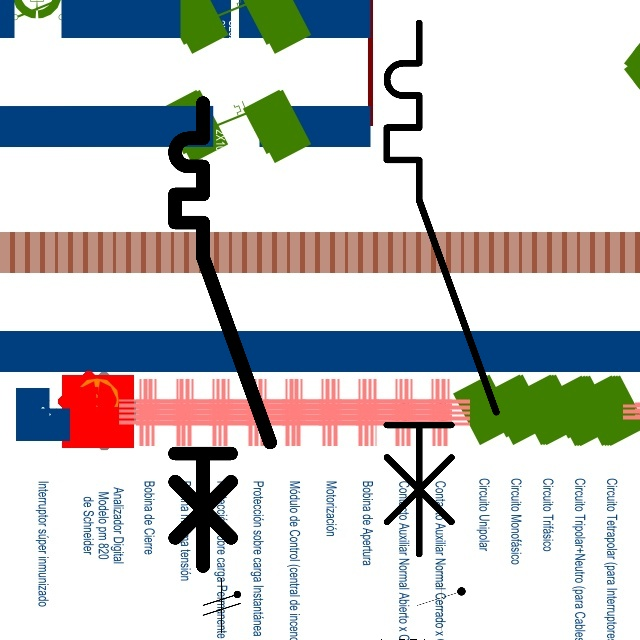interruptor_termomagnetico: (373, 9, 509, 567), (163, 91, 282, 578)
